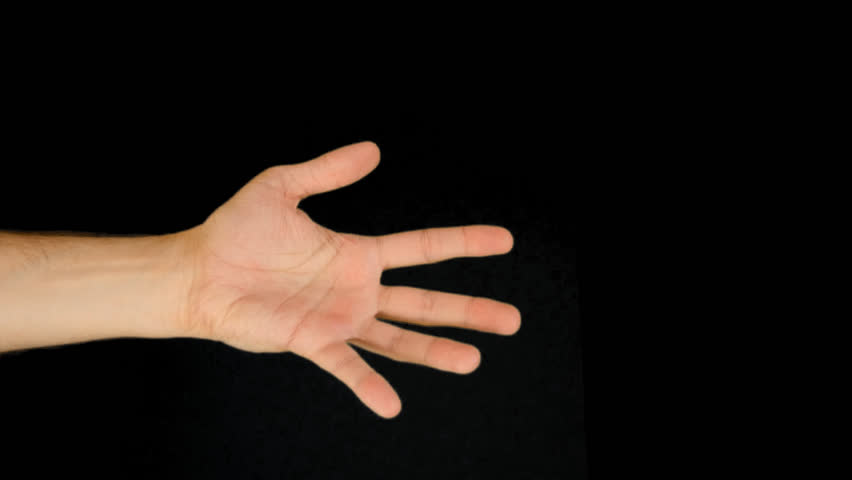open_hand: (180, 112, 547, 445)
